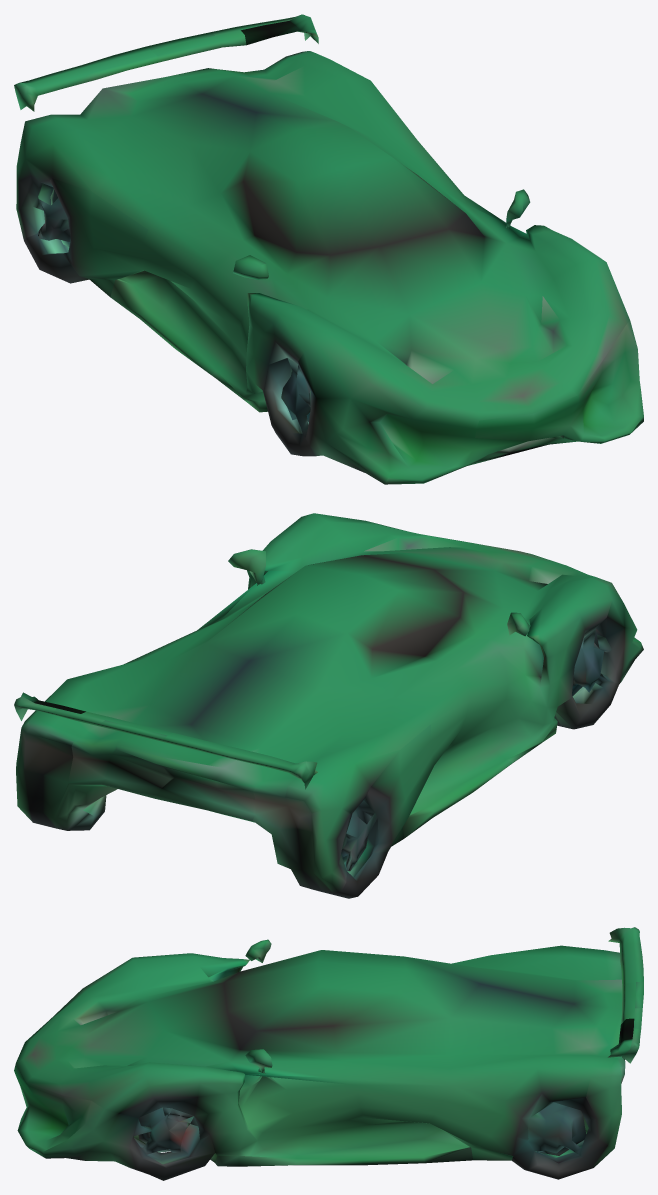
The model's file is 6449614-emerald-hypercar-1k.glb.
3 views of the same model, one above another, from view 1: azimuth 30°, elevation 25°; view 2: azimuth 150°, elevation 25°; view 3: azimuth 270°, elevation 25° (orthographic). The views are drawn at different scales.
Visible parts, largest first — view 1: Retopo_neural_node_96dd8c78-4dc9-4a78-96b9-d987bf7838ea; view 2: Retopo_neural_node_96dd8c78-4dc9-4a78-96b9-d987bf7838ea; view 3: Retopo_neural_node_96dd8c78-4dc9-4a78-96b9-d987bf7838ea.
Boxes of the visible parts, <box> form: Retopo_neural_node_96dd8c78-4dc9-4a78-96b9-d987bf7838ea: <box>14,14,643,484</box>; Retopo_neural_node_96dd8c78-4dc9-4a78-96b9-d987bf7838ea: <box>14,513,643,898</box>; Retopo_neural_node_96dd8c78-4dc9-4a78-96b9-d987bf7838ea: <box>14,927,643,1180</box>.
Size of the model in its own units: 0.4588 by 0.2522 by 0.9392.
